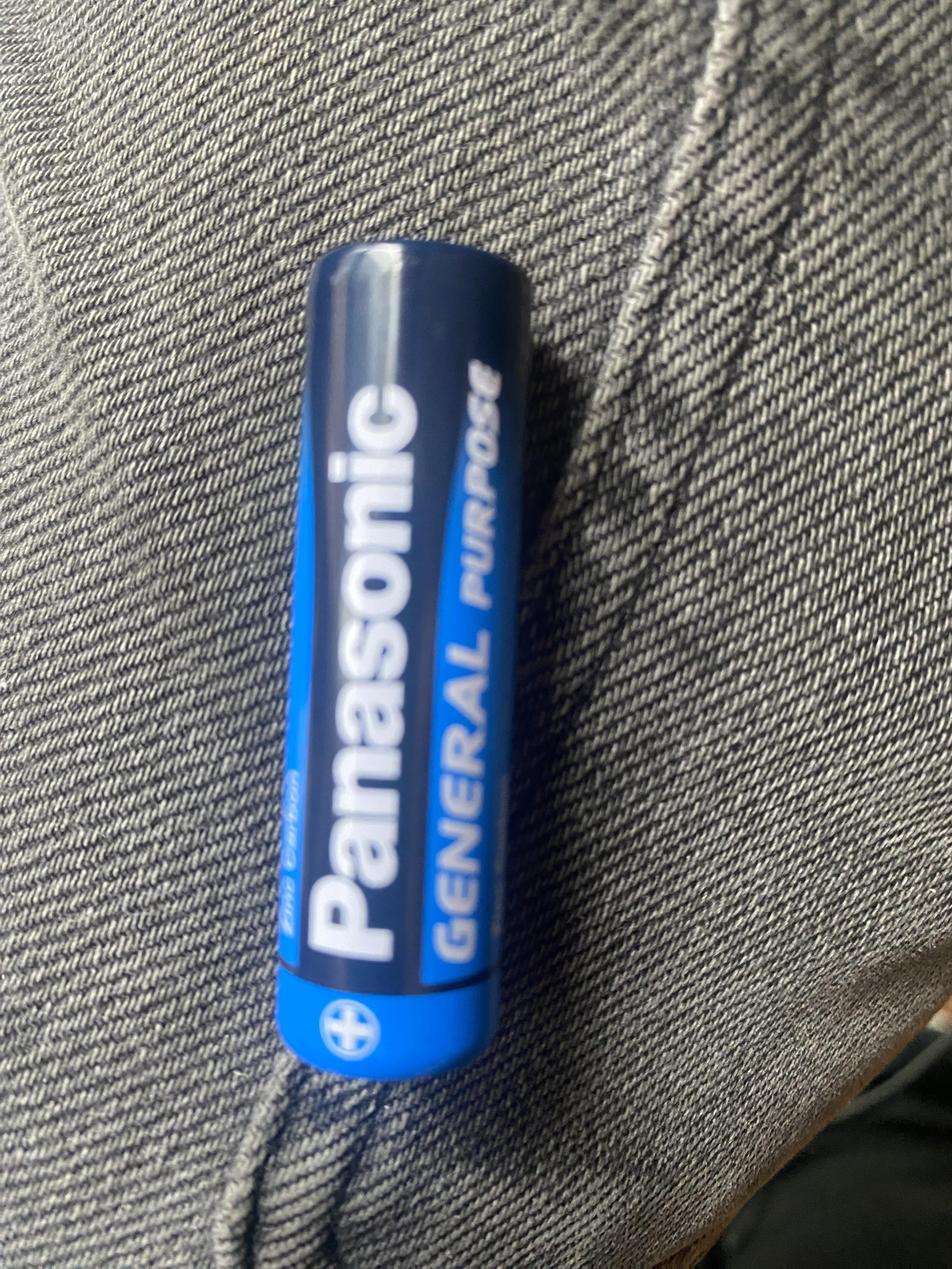AA: (273, 237, 532, 1082)
